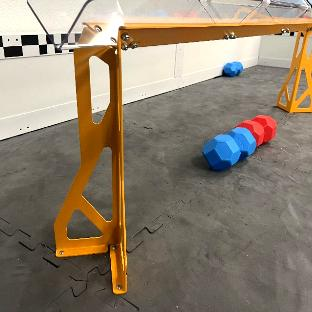Goal: (55, 0, 312, 293), (277, 25, 312, 113)
V5_BLUE: (202, 127, 255, 171), (223, 62, 242, 76)
V5_RED: (240, 115, 276, 145)
